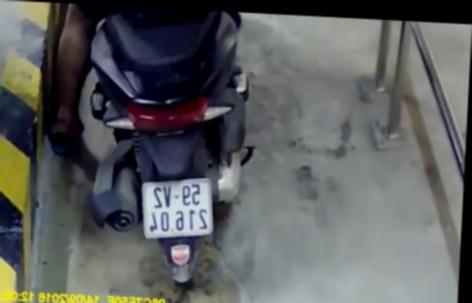License_Plate: (132, 166, 222, 251)
